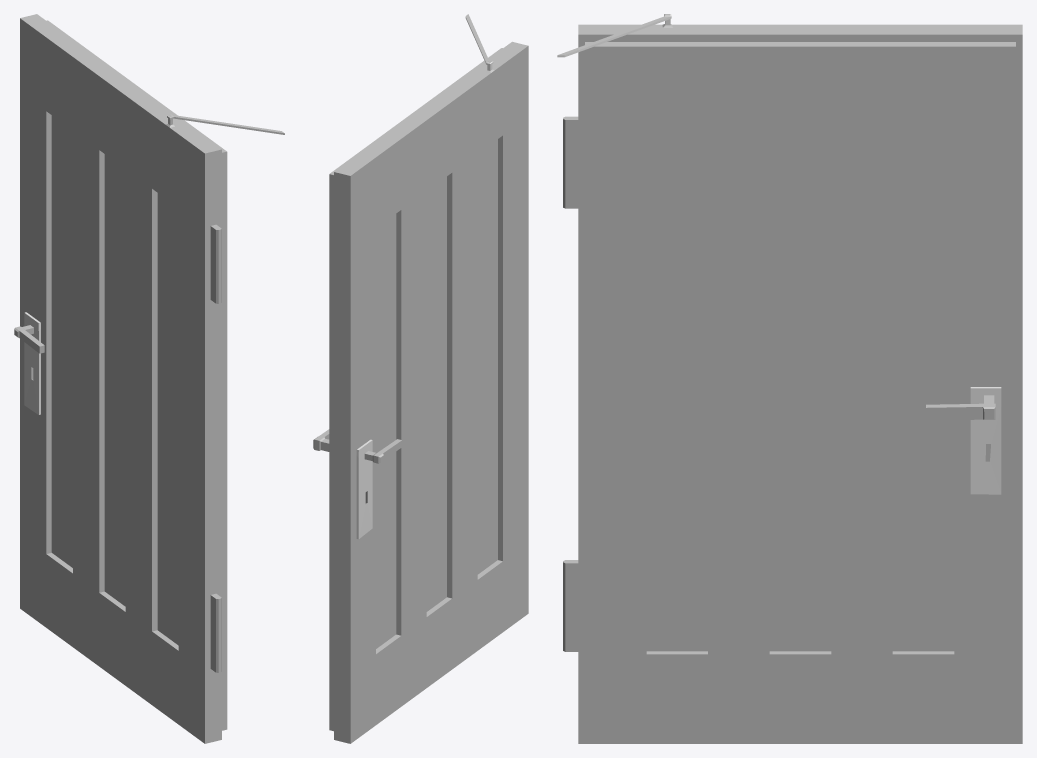
File: Door.fbx
3 renders of one model, left to right at view 1: azimuth 30°, elevation 25°; view 2: azimuth 150°, elevation 25°; view 3: azimuth 270°, elevation 25°, orthographic. The views are drawn at different scales.
Parts seen in each view (by area): view 1: Door.001; view 2: Door.001; view 3: Door.001.
Boxes of the visible parts, x1,y1,x2,y2 form: Door.001: [14, 14, 284, 743]; Door.001: [313, 14, 528, 743]; Door.001: [557, 14, 1022, 743].
Size of the model in its own units: 30.85 by 197 by 116.
Materials: 1 (1 with a texture image).
